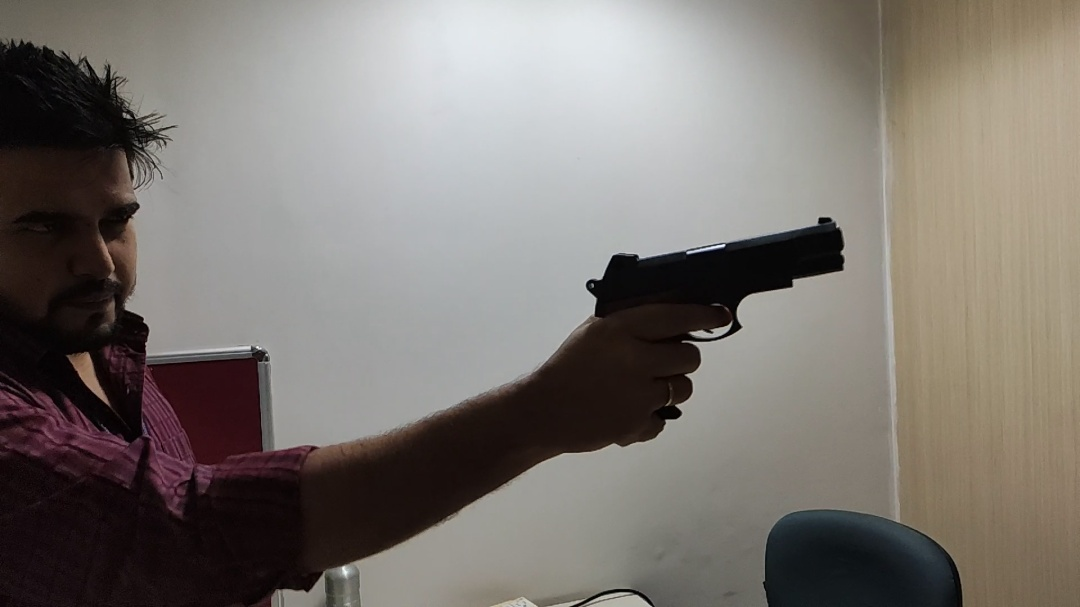gun: (582, 213, 849, 423)
